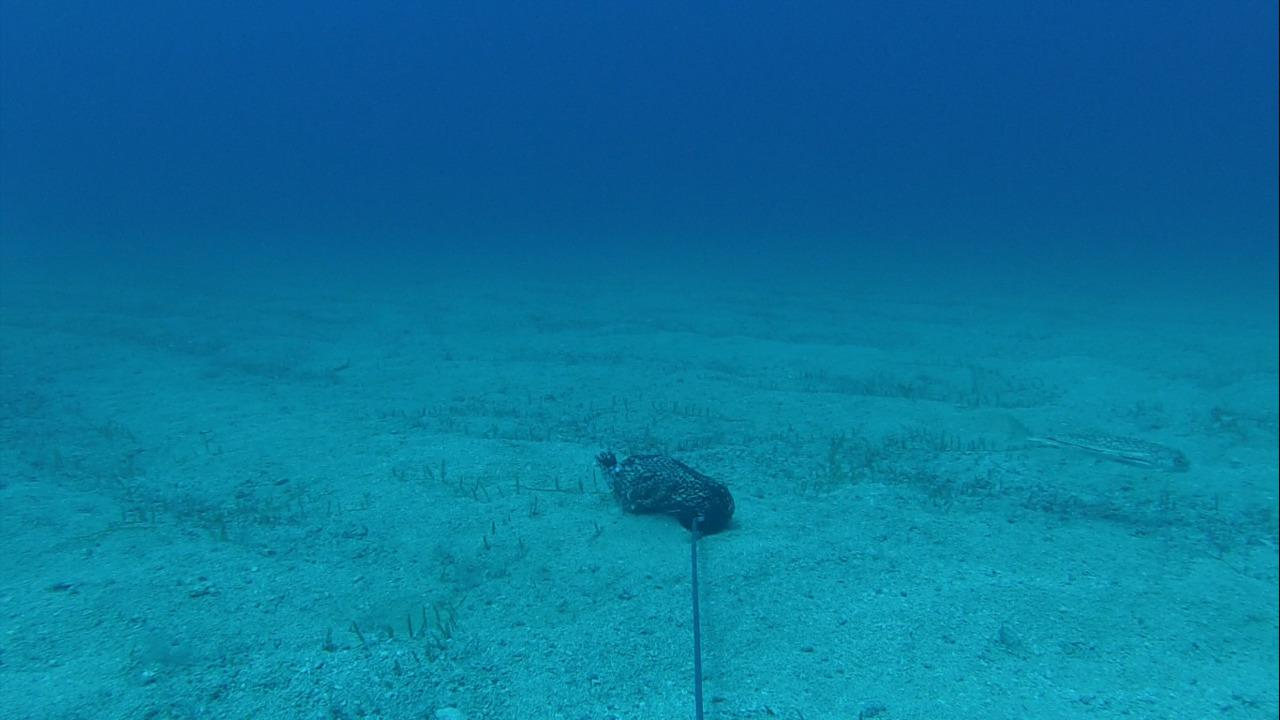dactylopterus: (1003, 409, 1189, 480)
